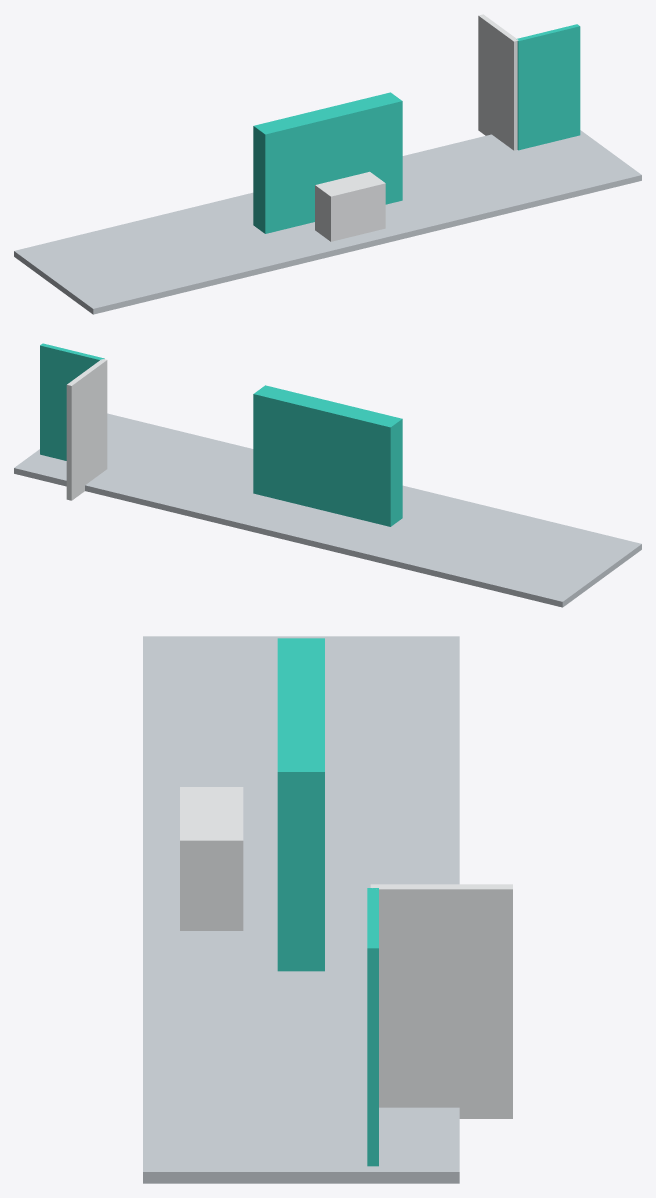
The picture shows the model from 3 angles, top to bottom: view 1: azimuth 30°, elevation 25°; view 2: azimuth 150°, elevation 25°; view 3: azimuth 270°, elevation 25°; orthographic projection. The views are drawn at different scales.
Parts seen in each view (by area): view 1: Exhibition Booth Concept; view 2: Exhibition Booth Concept; view 3: Exhibition Booth Concept.
Part boxes in pixels (x1,y1,x2,y2): Exhibition Booth Concept: [14, 14, 641, 314]; Exhibition Booth Concept: [14, 343, 641, 607]; Exhibition Booth Concept: [143, 636, 512, 1183].
Size of the model in its own units: 12 by 2.4 by 3.51.
